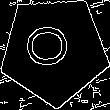O_E: (29, 27, 80, 73)
